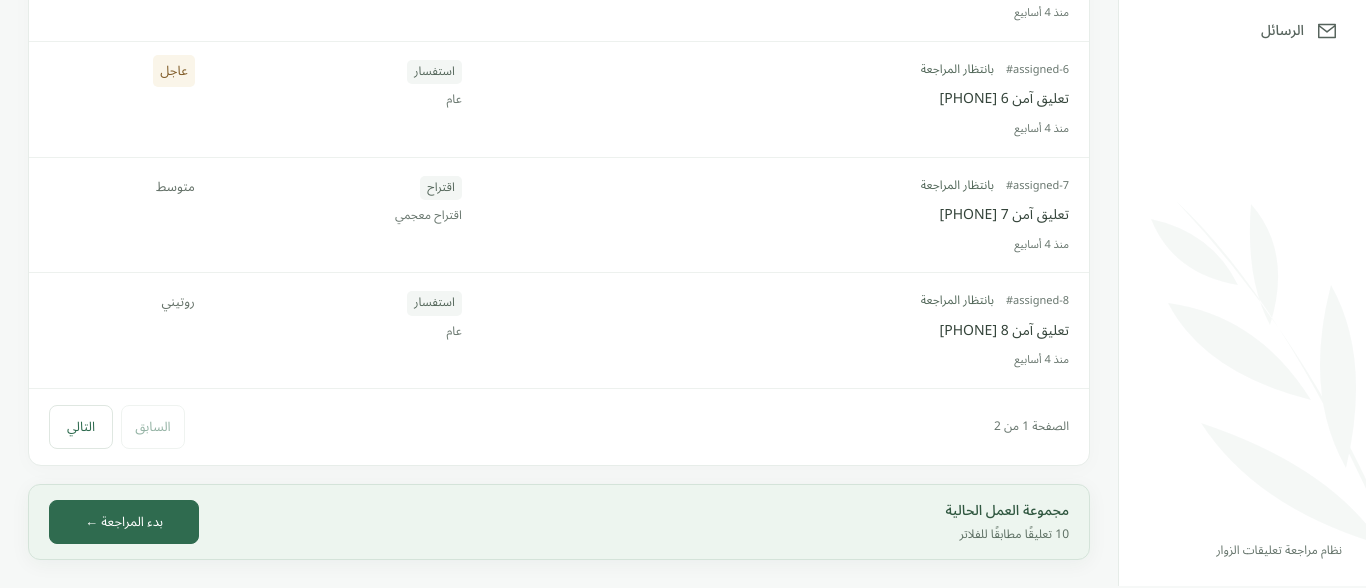
Test case: Reviewer Assigned work › starts from the current page rather than claiming the entire filtered set
(page scrolled)
What coordinates should you click on to do the following:
click the button "التالي"
I would click on:
 (81, 427)
Its box is [49,405,113,449].
(page scrolled)
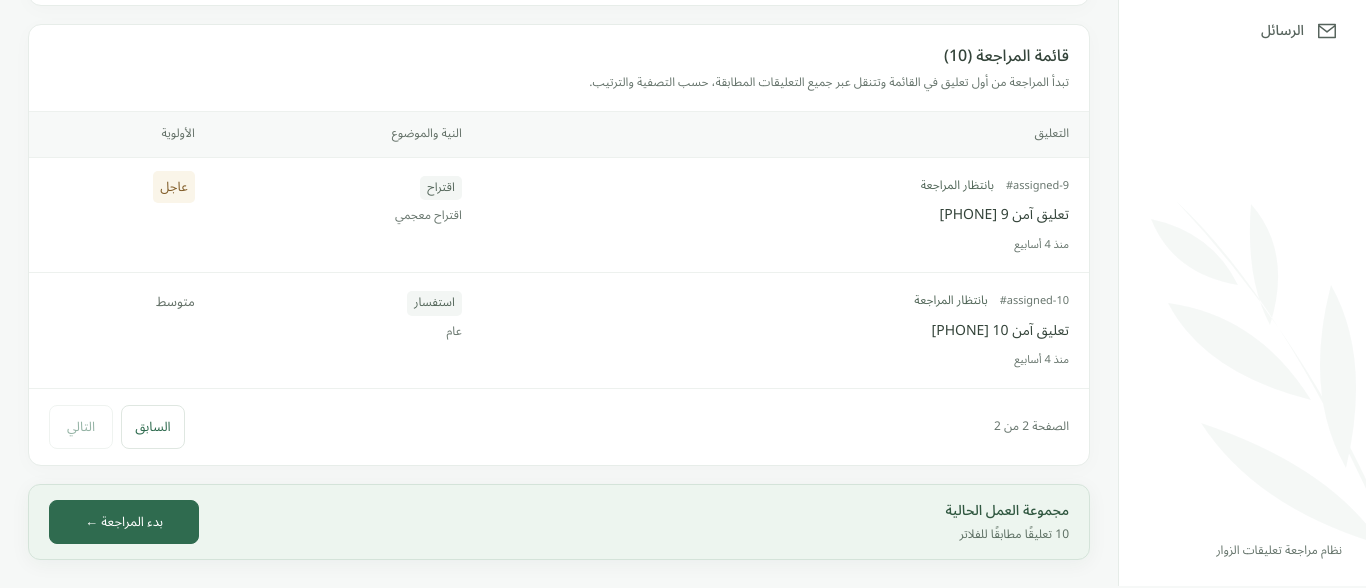
Result: the text "#assigned-9" is shown at [1006,176,1069,195]
What coordinates should you click on to do the following:
click the button "بدء المراجعة ←"
I would click on:
 (124, 522)
Its box is [49,500,199,544].
(page scrolled)
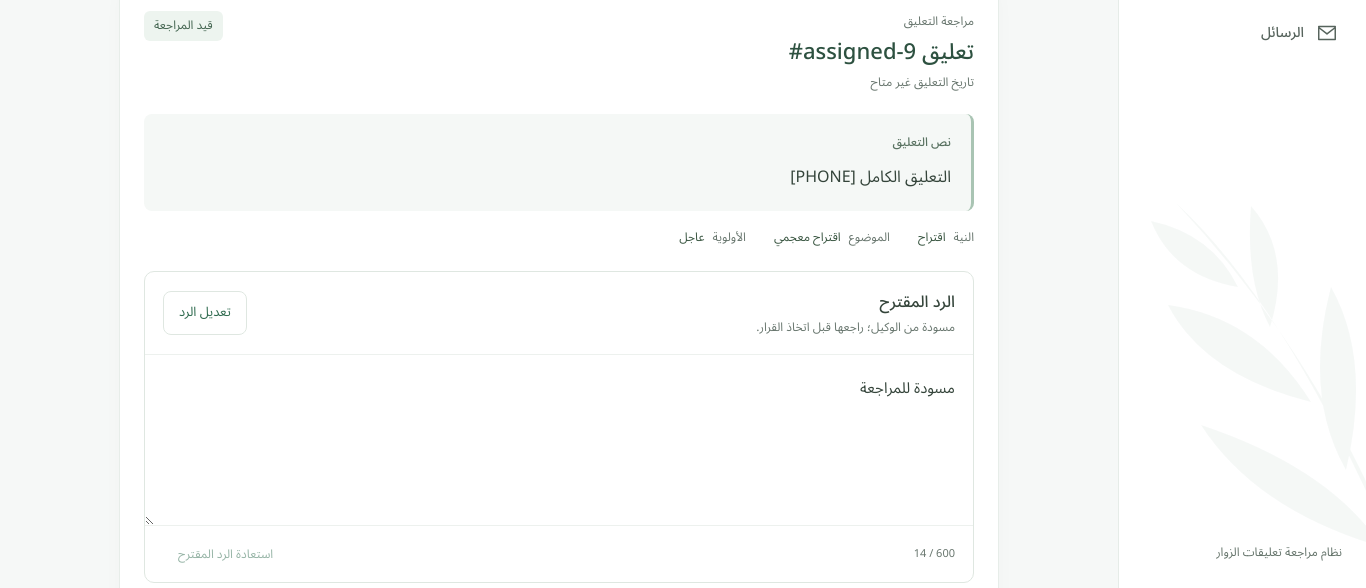
Result: the text box named "الرد المقترح" is shown at [145,355,973,525]
